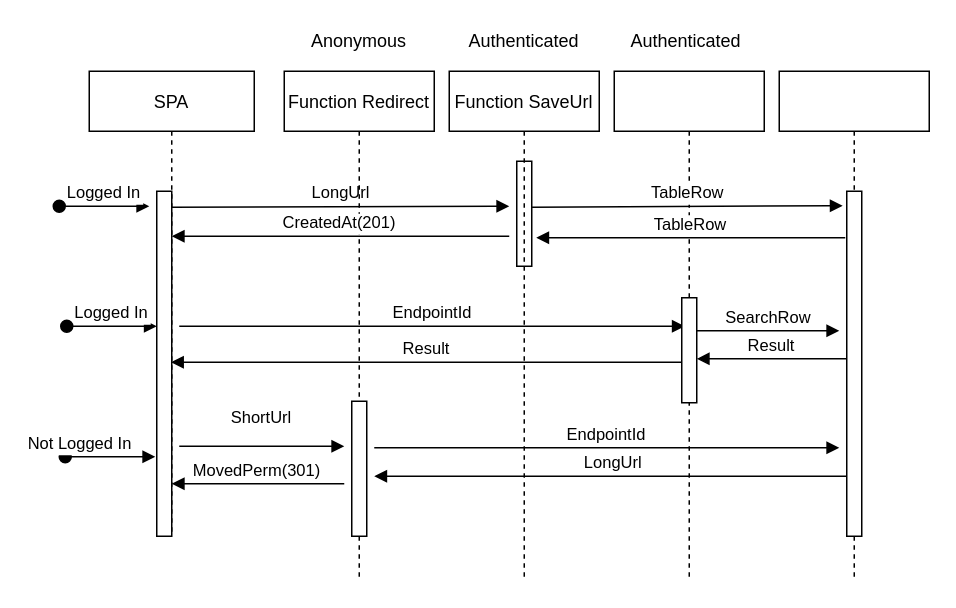
Image size: 956x608. Some labels were removed from this diagram. Each missing label, with the box of its shape:
DataTable: (778, 70, 929, 581)
Function Stats: (613, 70, 764, 581)
